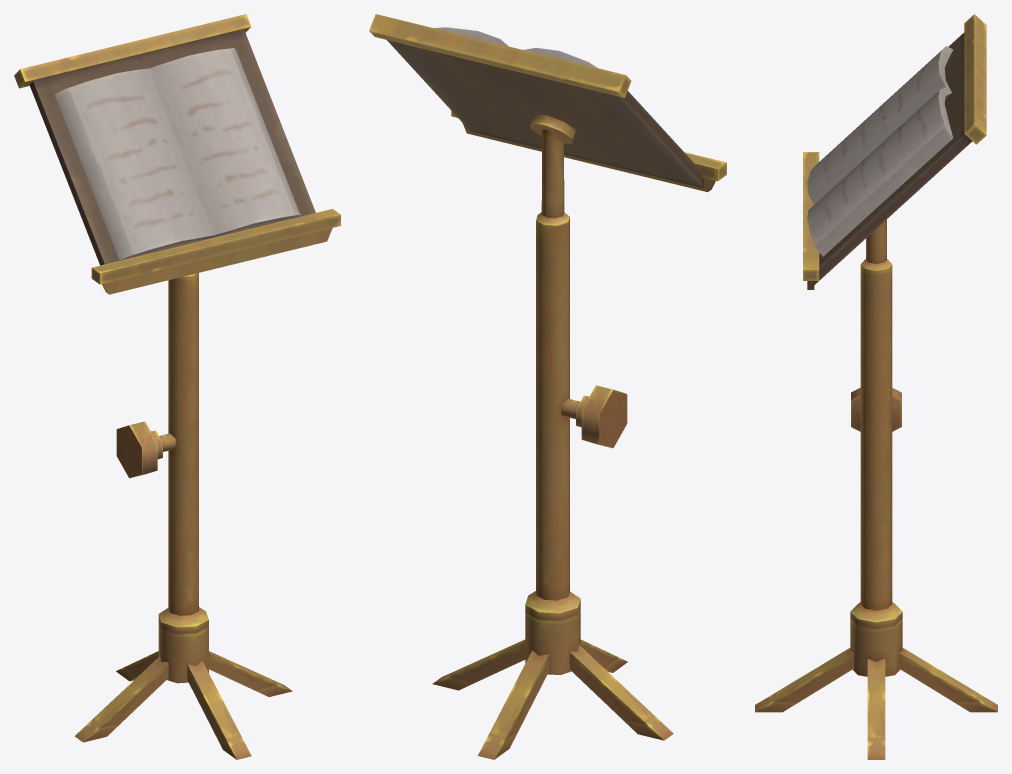
File: Homeworld_Interior_Fd_Decoration_Prop_MusicShelf_01_Vo.fbx
3 renders of one model, left to right at view 1: azimuth 30°, elevation 25°; view 2: azimuth 150°, elevation 25°; view 3: azimuth 270°, elevation 25°, orthographic. The views are drawn at different scales.
Parts seen in each view (by area): view 1: Indoor_Fd_Prop_Shelf_A_01_Vo; view 2: Indoor_Fd_Prop_Shelf_A_01_Vo; view 3: Indoor_Fd_Prop_Shelf_A_01_Vo.
Boxes of the visible parts, x1,y1,x2,y2 form: Indoor_Fd_Prop_Shelf_A_01_Vo: [14, 14, 340, 759]; Indoor_Fd_Prop_Shelf_A_01_Vo: [369, 14, 726, 759]; Indoor_Fd_Prop_Shelf_A_01_Vo: [755, 14, 997, 759].
Size of the model in its own units: 0.5811 by 1.47 by 0.506.
